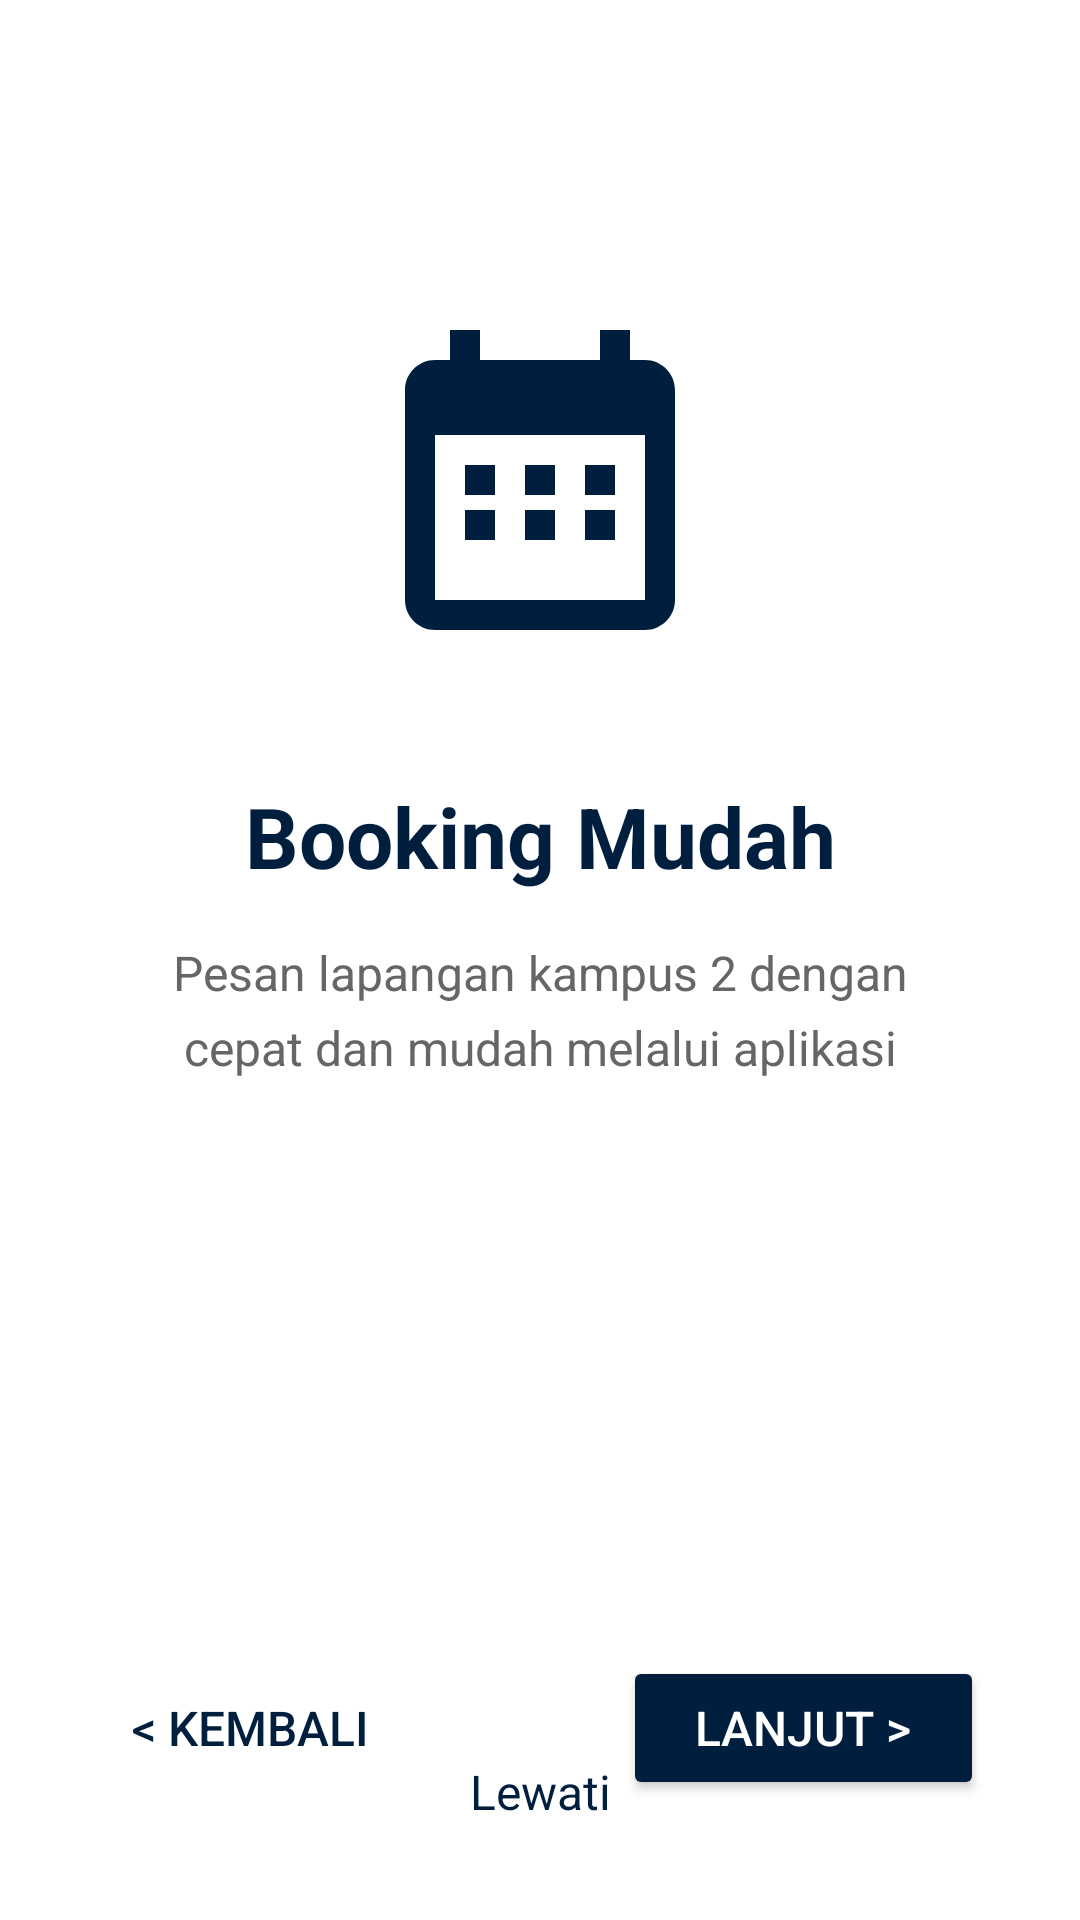

Locate icon controls on the screen. Image size 1080 x 1920, boxes as (x1, y1, x2, y2).
calendar: (405, 330, 675, 630)
